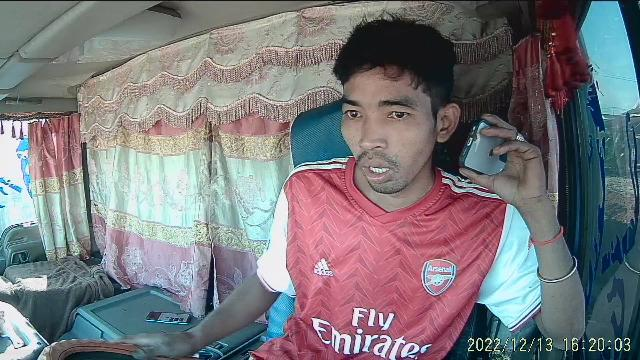PhoneUse: (456, 120, 512, 176), (144, 308, 194, 326)
SafeDriving: (382, 103, 418, 124), (337, 102, 369, 124)
